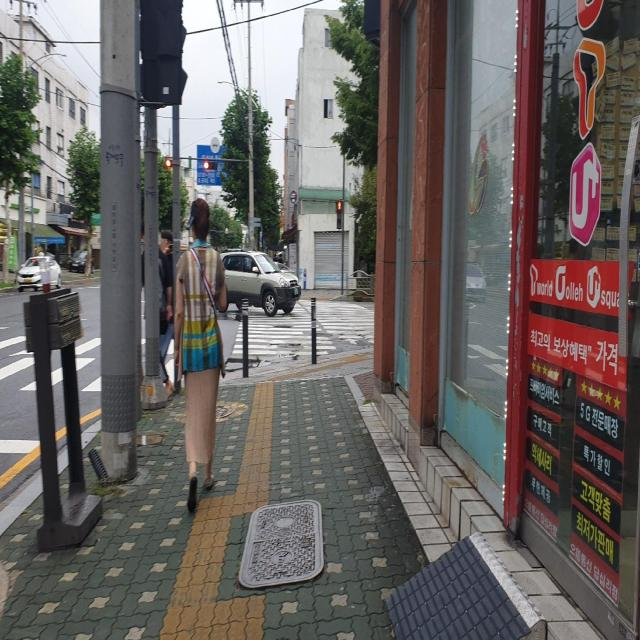barrier ahead at: (305, 296, 321, 370), (239, 288, 251, 374)
person ahead at: (175, 197, 226, 523)
